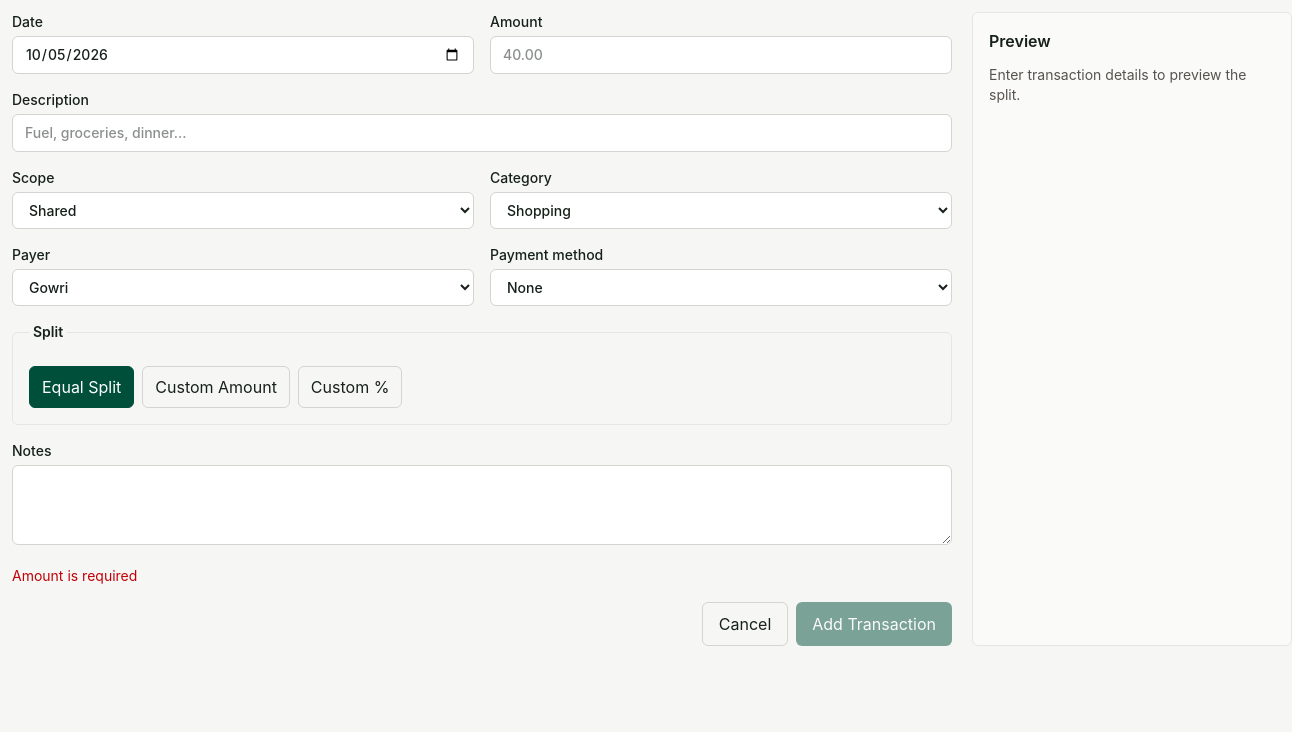
Test: TransactionForm › equal shared split previews both household members
The image size is (1292, 732).
Type "40" into the field labelled "Amount" at (721,55), box [490,36,952,74]
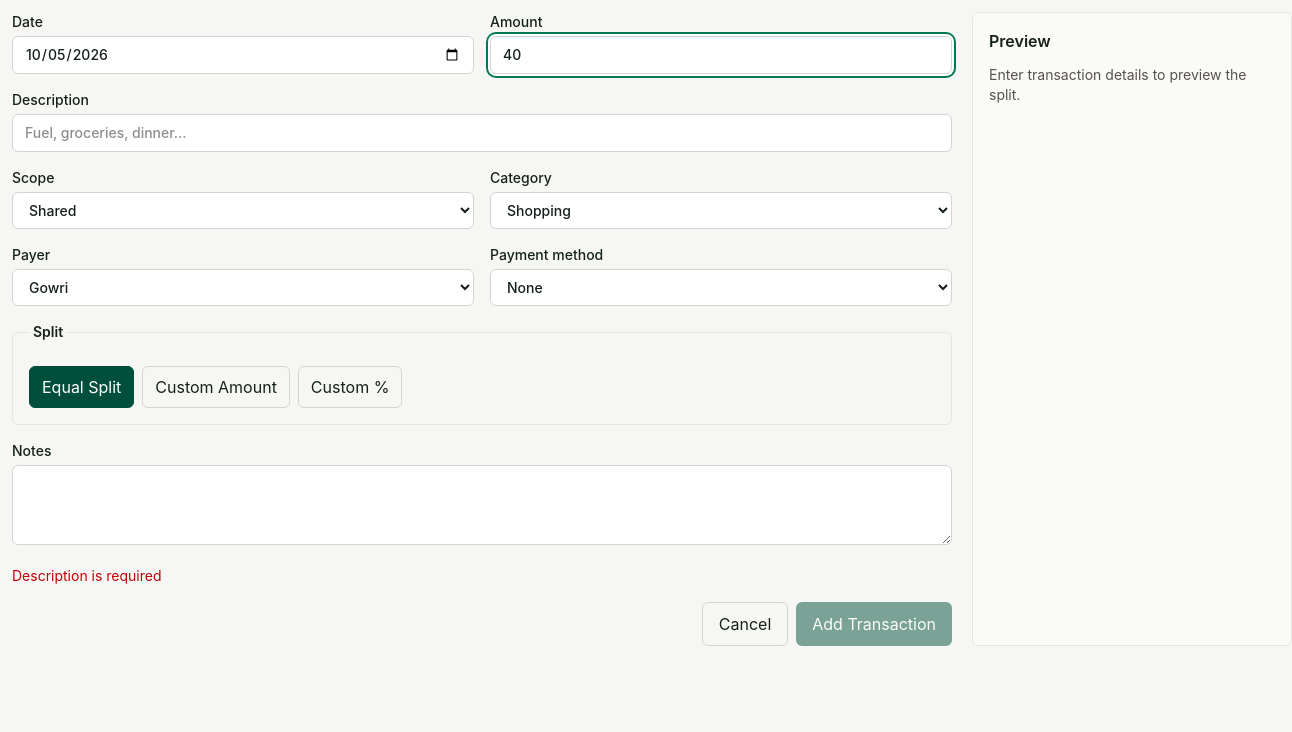
Type "Fuel" into the field labelled "Description" at (482,133), box [12,114,952,152]
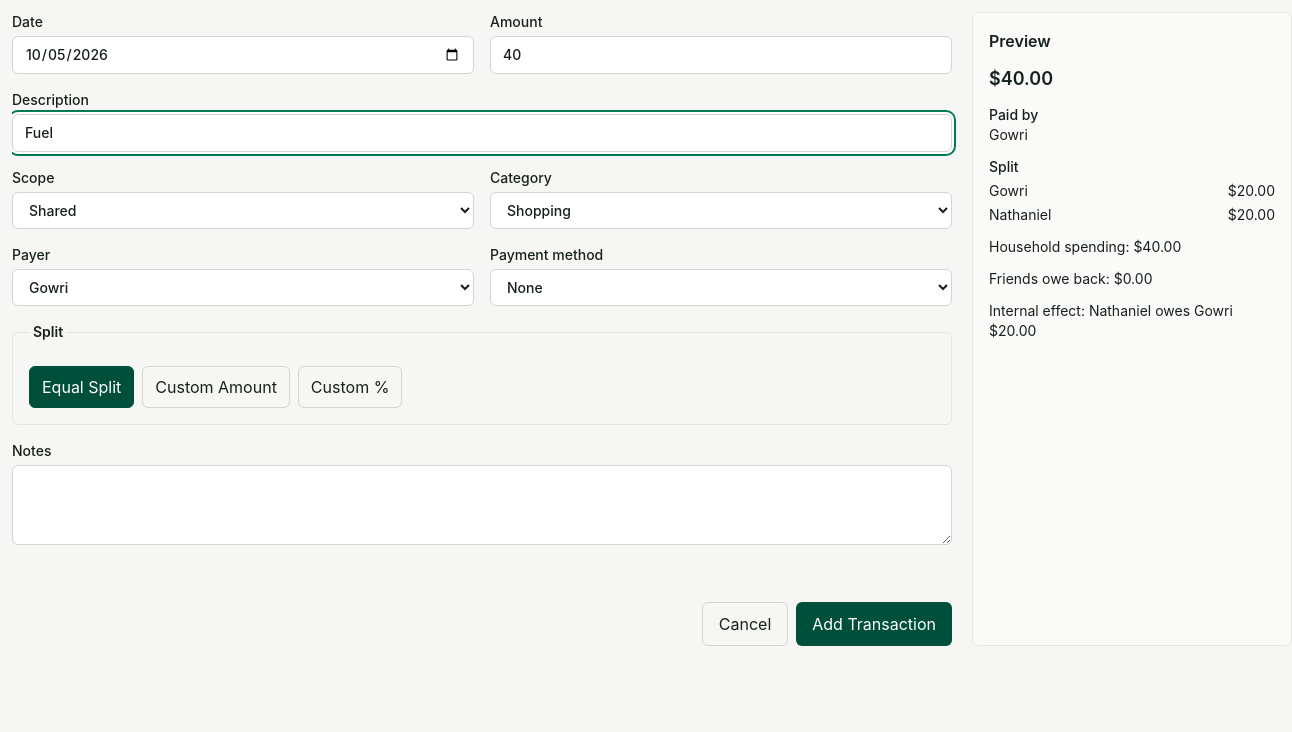
Expected: the text "$20.00" is shown 2 times, [1228,181,1275,201]; [1228,205,1275,225]
